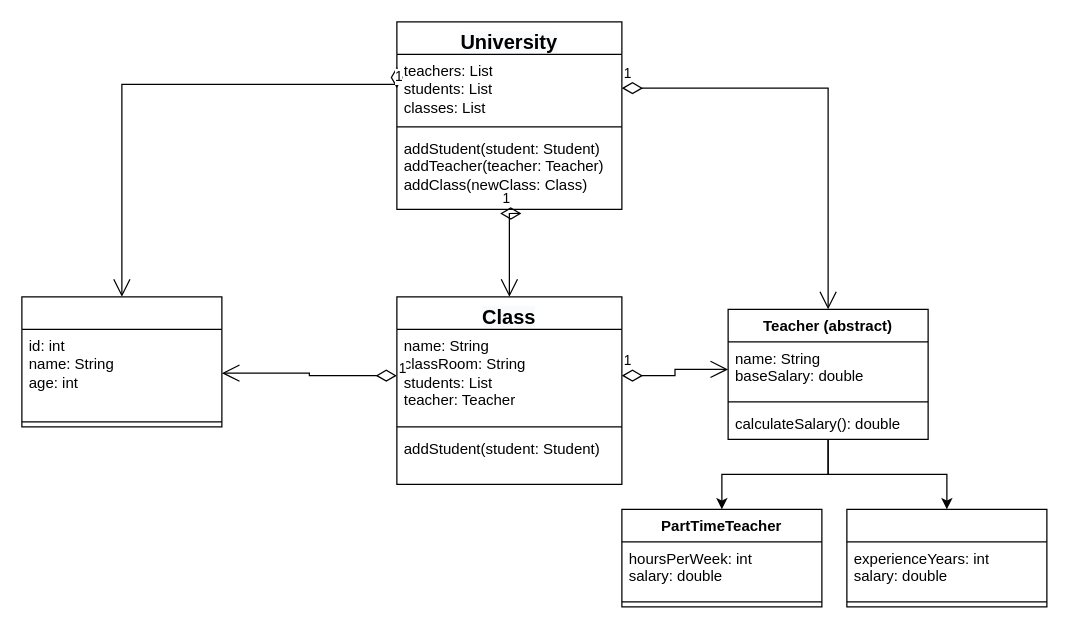
Some shapes in this 1069 by 629 pixel diagram are drawn without their labels. The shapes that lost their labels are listed below. From the top down, each one's box as (x1, y1, x2, y2) in pixels, then its label:
(21, 296, 222, 427): Student
(846, 508, 1047, 607): FullTimeTeacher
